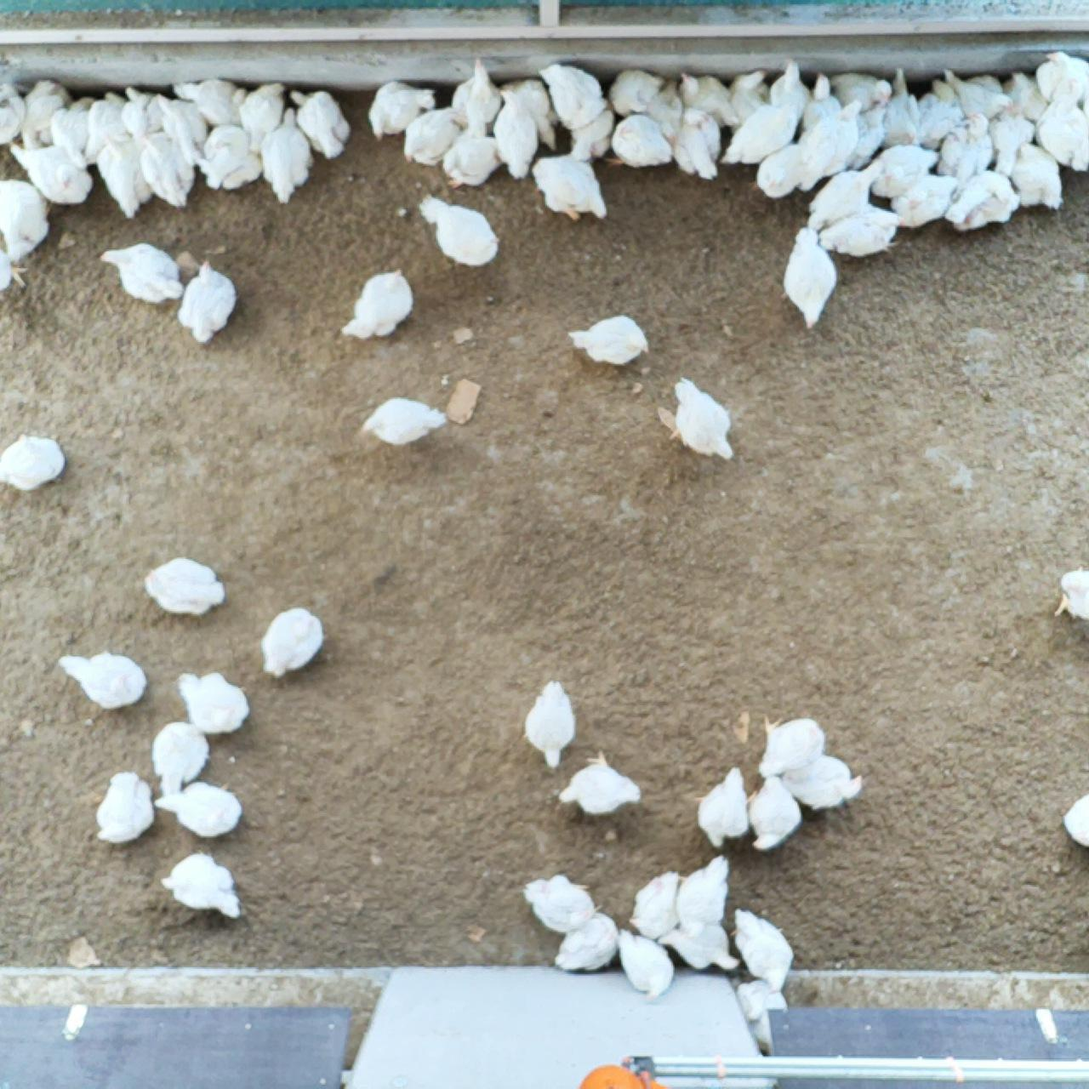chicken: (722, 96, 811, 168), (797, 97, 863, 194), (337, 266, 418, 345), (668, 374, 740, 461), (419, 194, 504, 267), (779, 225, 839, 328), (8, 134, 96, 204), (158, 849, 244, 919), (90, 121, 152, 216), (258, 106, 318, 203), (557, 751, 642, 819), (520, 678, 581, 771), (802, 159, 883, 229), (157, 781, 248, 843), (728, 905, 794, 989), (1031, 76, 1089, 171), (176, 256, 239, 343), (56, 650, 148, 709), (258, 604, 331, 678), (175, 665, 251, 736), (819, 198, 912, 256), (653, 915, 741, 976), (285, 87, 355, 163), (529, 158, 610, 223), (90, 765, 156, 844), (755, 714, 832, 781), (102, 241, 182, 305), (945, 167, 1016, 239), (148, 716, 210, 797), (133, 127, 195, 208), (858, 141, 944, 198), (194, 120, 260, 194), (0, 172, 54, 260), (523, 871, 600, 932), (780, 754, 863, 810), (695, 766, 753, 846), (551, 907, 620, 974), (368, 77, 440, 141), (748, 774, 807, 852), (673, 854, 734, 929), (501, 79, 561, 155), (446, 57, 502, 138), (671, 104, 728, 183), (144, 559, 228, 612), (359, 395, 449, 444), (933, 110, 995, 181), (569, 313, 652, 366), (237, 80, 296, 154), (1002, 141, 1065, 210), (599, 114, 675, 171), (934, 64, 1008, 122), (565, 90, 620, 167), (542, 64, 607, 128), (614, 923, 670, 997), (400, 106, 466, 167), (736, 978, 791, 1051), (155, 92, 211, 163), (888, 175, 960, 230), (76, 87, 128, 162), (491, 92, 536, 178), (626, 867, 682, 935), (915, 77, 965, 153), (675, 68, 740, 126), (51, 92, 101, 167), (440, 133, 505, 190), (21, 77, 74, 145), (172, 80, 247, 128), (757, 142, 815, 204), (0, 432, 64, 487), (879, 66, 922, 147), (1033, 49, 1089, 111), (844, 101, 892, 173), (796, 72, 847, 138), (989, 105, 1032, 181), (610, 67, 668, 122), (768, 60, 810, 130), (728, 66, 773, 131), (117, 83, 167, 139), (828, 69, 892, 112), (647, 80, 685, 151), (1002, 70, 1048, 120), (0, 83, 30, 158), (1054, 566, 1089, 620), (1063, 790, 1089, 845), (0, 250, 30, 296)
